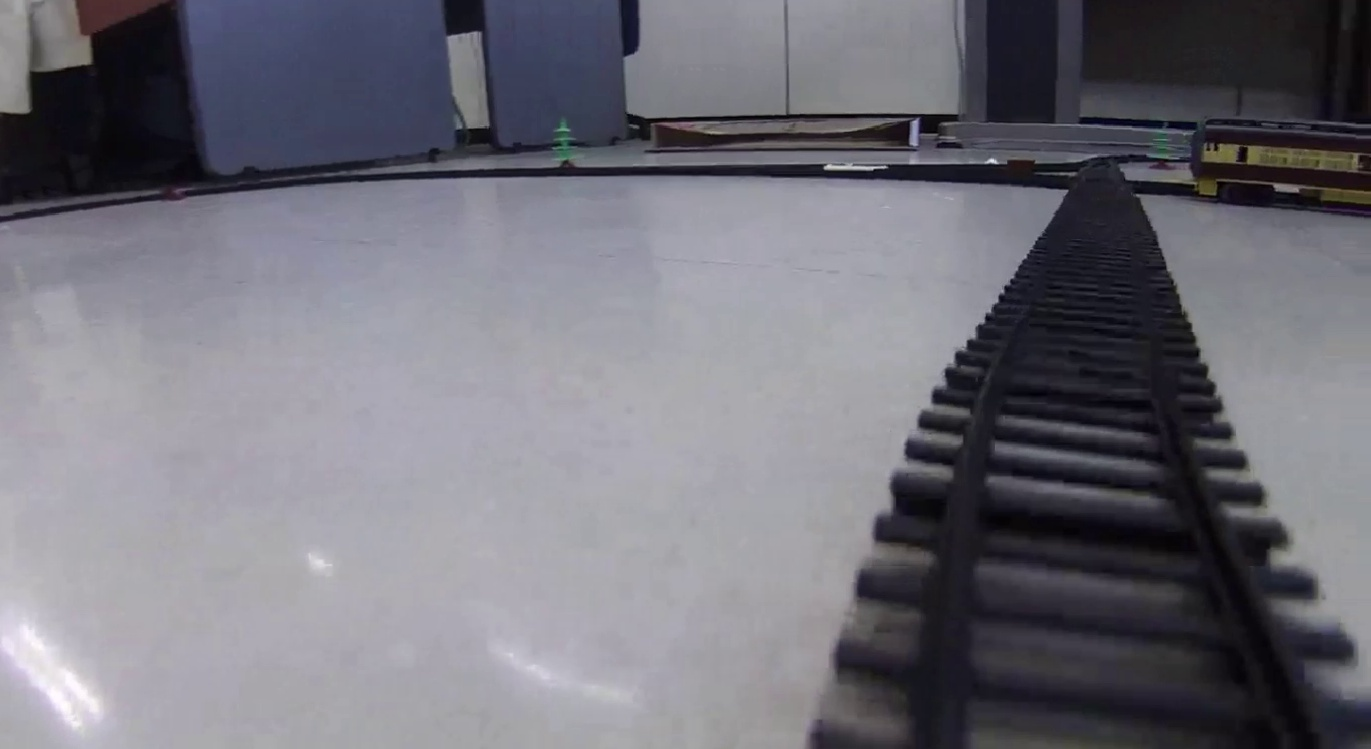tree: (548, 116, 585, 167)
